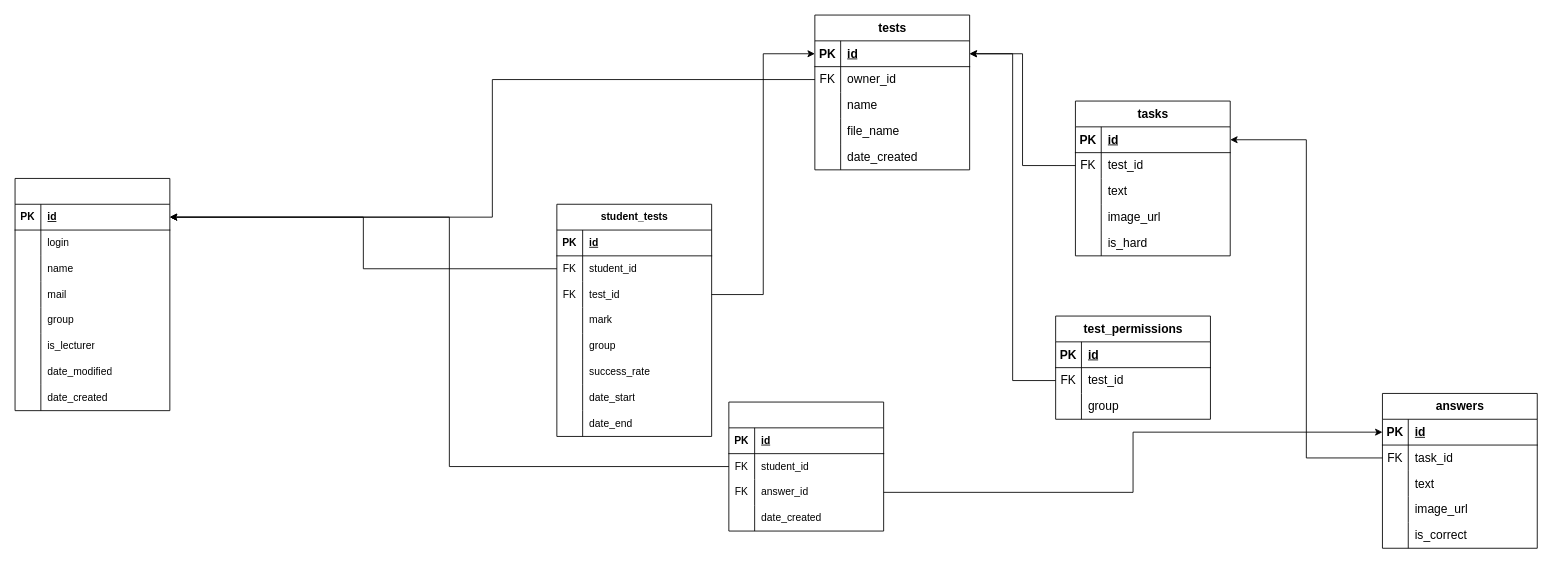
Image size: 1552x563. Some labels were removed from this diagram. Each missing label, with the box of its shape:
student_answers: (728, 401, 884, 531)
users: (14, 178, 170, 411)
